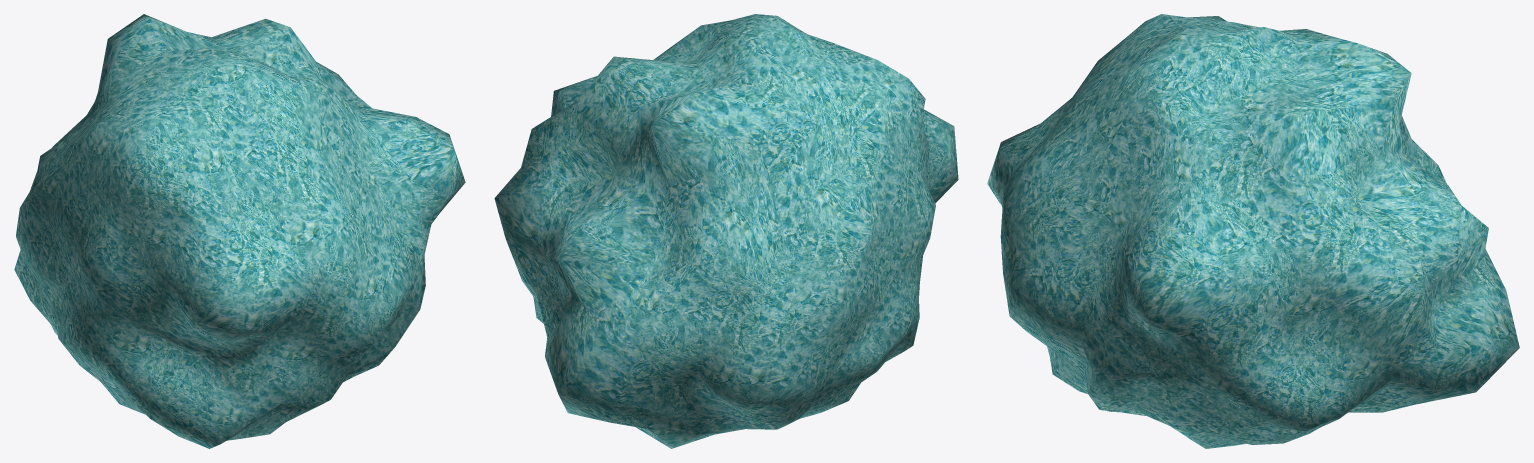
The model's file is AsteroidTypeH_Ice.FBX.
3 renders of one model, left to right at view 1: azimuth 30°, elevation 25°; view 2: azimuth 150°, elevation 25°; view 3: azimuth 270°, elevation 25°, orthographic. The views are drawn at different scales.
Visible parts, largest first — view 1: GeoSphere01; view 2: GeoSphere01; view 3: GeoSphere01.
Boxes of the visible parts, x1=… form: GeoSphere01: x1=14, y1=14, x2=465, y2=448; GeoSphere01: x1=494, y1=14, x2=958, y2=448; GeoSphere01: x1=987, y1=14, x2=1519, y2=448.
Bounding box in the file's own units: 62.16 × 58.07 × 73.03.
